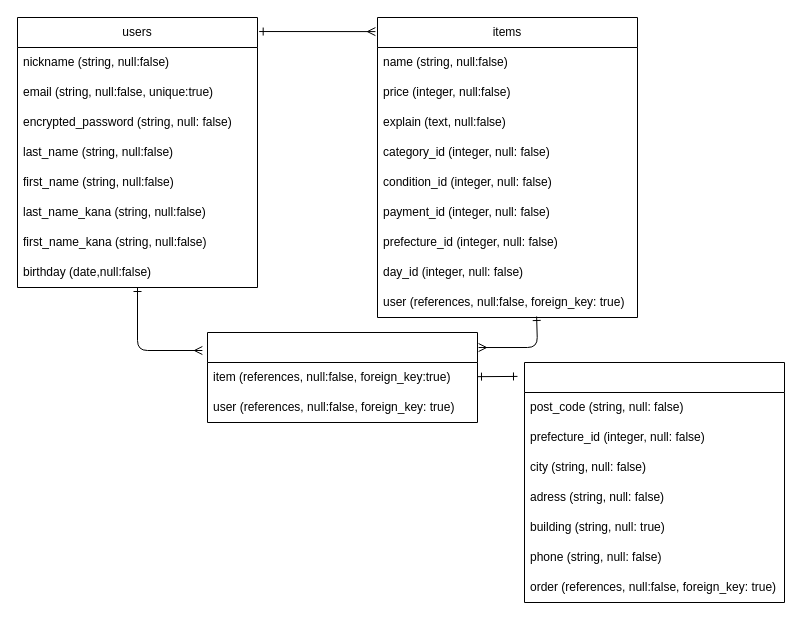
The diagram is 802 pixels wide and 620 high, and some of its shapes have lost their labels. The box of each missing label's shape, as (x1, y1, x2, y2) in pixels:
addresses: (524, 362, 784, 602)
orders: (206, 332, 478, 422)
